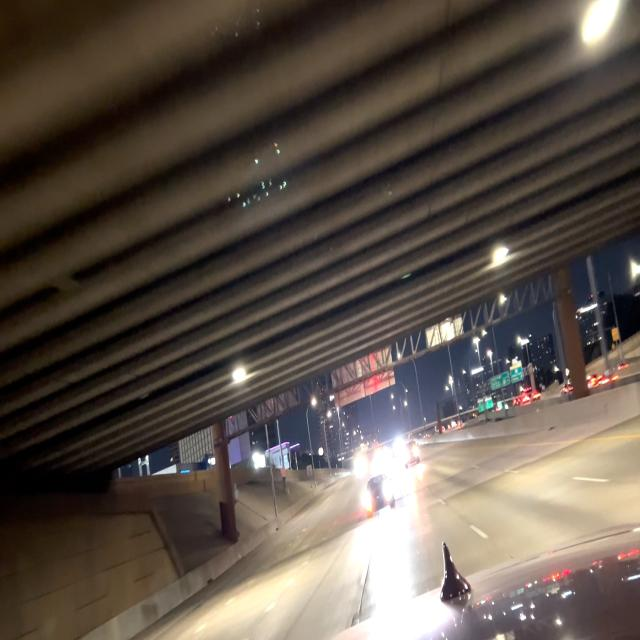back-of-sign: (330, 349, 395, 409), (427, 316, 465, 349)
